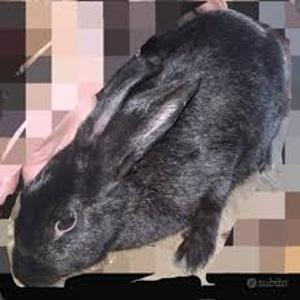rabbit: (12, 10, 289, 287)
